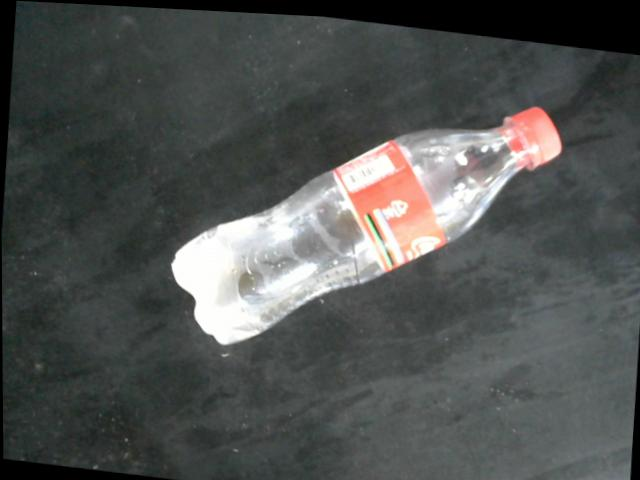bottle: (170, 99, 563, 345)
